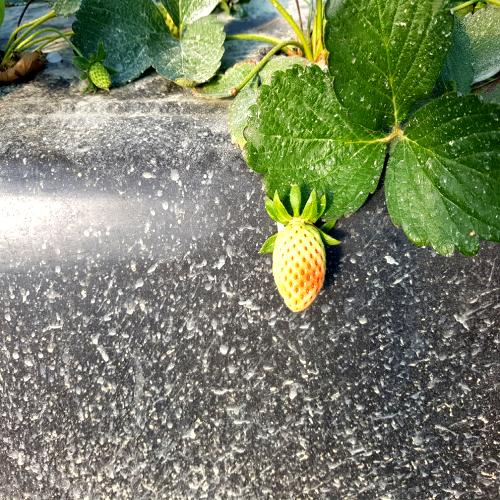partially-ripe: (269, 215, 330, 318)
